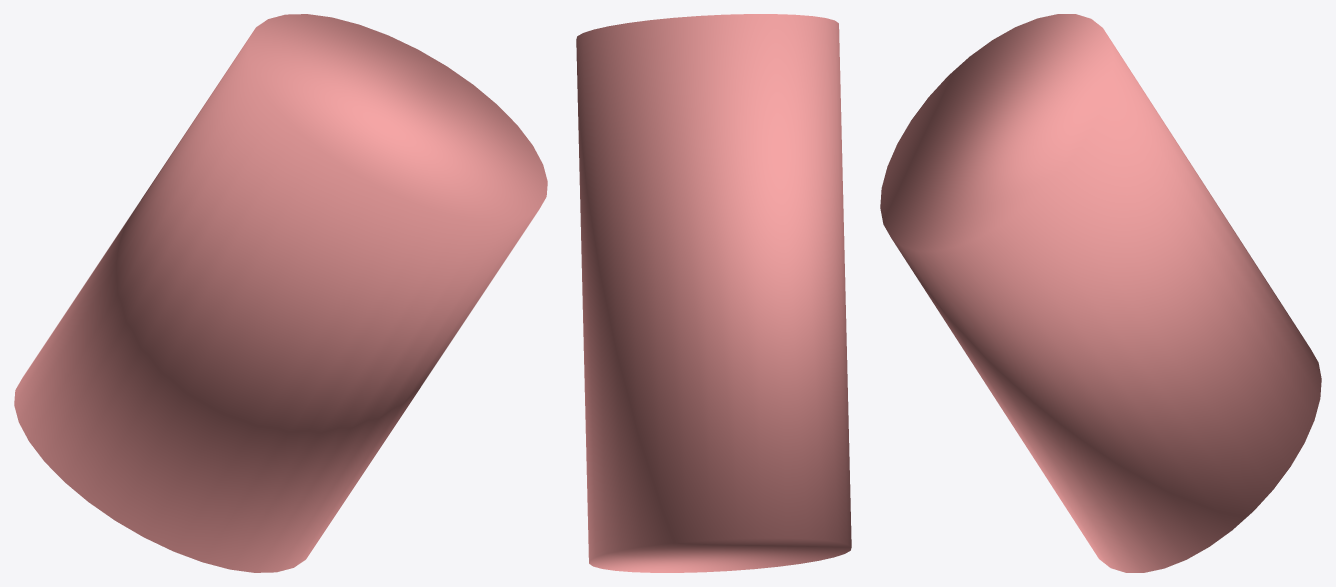
The model's file is Organ_Stomach.fbx.
3 views of the same model, side by side, from view 1: azimuth 30°, elevation 25°; view 2: azimuth 150°, elevation 25°; view 3: azimuth 270°, elevation 25° (orthographic). The views are drawn at different scales.
Visible parts, largest first — view 1: Organ_Stomach; view 2: Organ_Stomach; view 3: Organ_Stomach.
Part boxes in pixels (left/top/right/bottom): Organ_Stomach: left=14, top=14, right=547, bottom=572; Organ_Stomach: left=576, top=14, right=851, bottom=572; Organ_Stomach: left=880, top=14, right=1321, bottom=572.
Bounding box in the file's own units: 0.6698 × 0.9491 × 0.7281.
